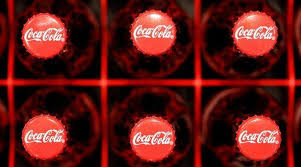coke-glass-bottle: (204, 5, 286, 75), (18, 95, 96, 167), (19, 4, 93, 77), (116, 94, 190, 167), (115, 6, 190, 75), (209, 97, 281, 163)
